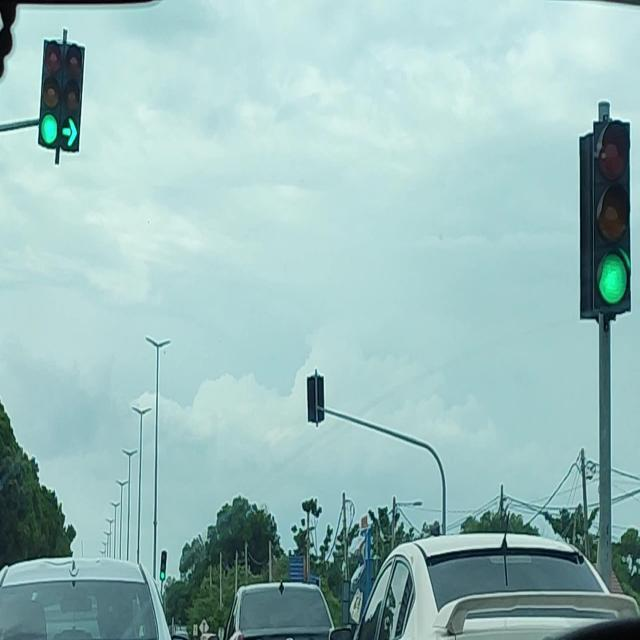green_light: (592, 120, 630, 310), (37, 38, 64, 146), (60, 41, 84, 151)
